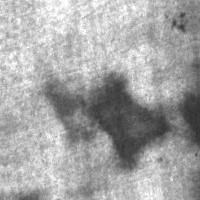patches: (87, 67, 176, 171), (41, 75, 98, 150), (173, 88, 200, 151)
